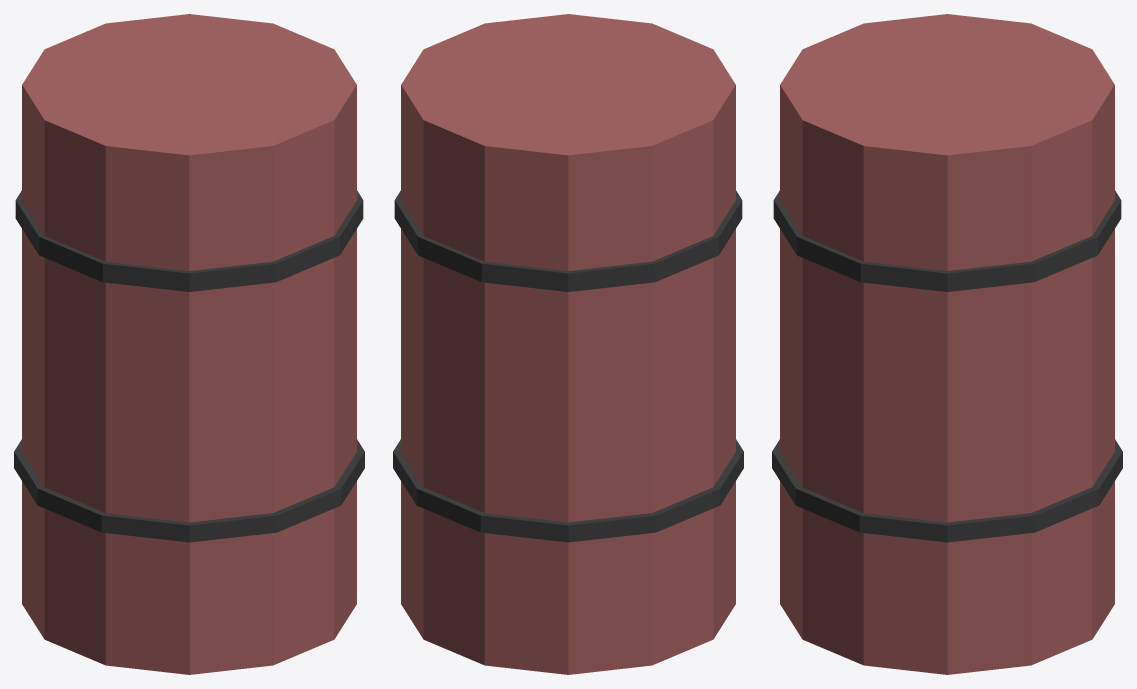
File: Barrel.fbx
The picture shows the model from 3 angles, left to right: view 1: azimuth 30°, elevation 25°; view 2: azimuth 150°, elevation 25°; view 3: azimuth 270°, elevation 25°; orthographic projection.
Parts seen in each view (by area): view 1: barrel; view 2: barrel; view 3: barrel.
Part boxes in pixels (box(x1,y1,x2,y2)): barrel: box(14, 14, 364, 674); barrel: box(393, 14, 743, 674); barrel: box(772, 14, 1122, 674).
Bounding box in the file's own units: 1.88 × 3.07 × 1.88.
